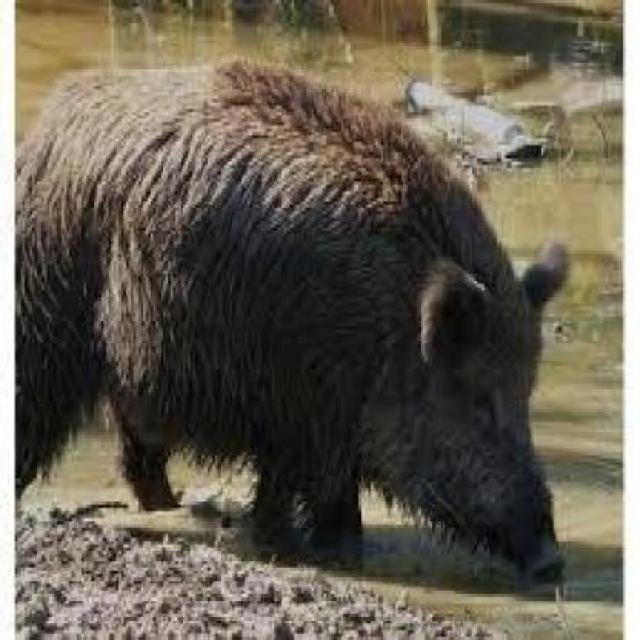wildboar: (0, 49, 571, 594)
